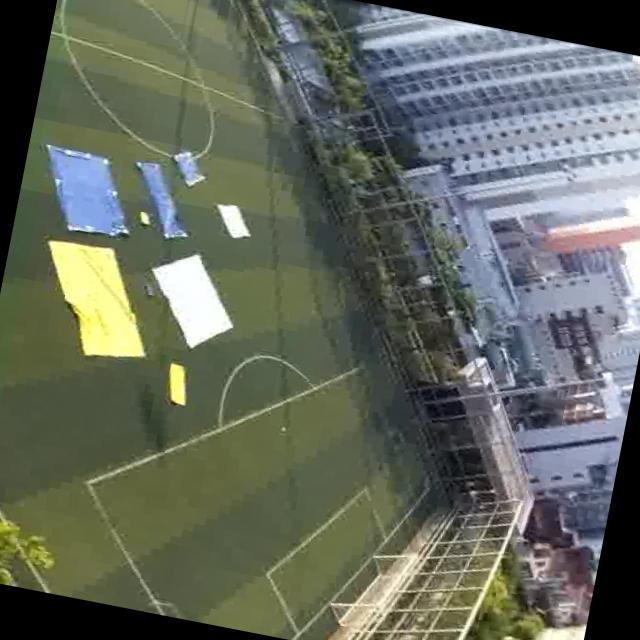danger: (33, 144, 126, 236), (150, 192, 198, 247), (168, 148, 210, 190)
safety: (142, 247, 240, 356), (205, 197, 260, 245)
warning: (32, 237, 147, 363), (155, 357, 195, 406)
